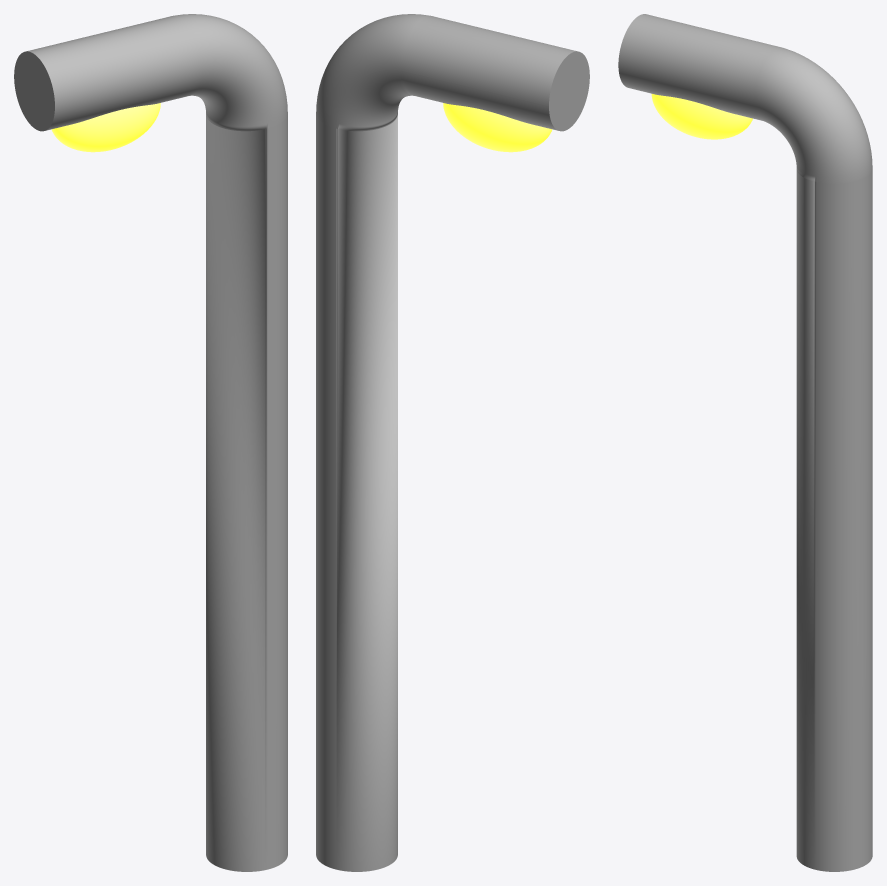
The model's file is lamp-light2.glb.
3 renders of one model, left to right at view 1: azimuth 30°, elevation 25°; view 2: azimuth 150°, elevation 25°; view 3: azimuth 330°, elevation 25°, orthographic. The views are drawn at different scales.
Visible parts, largest first — view 1: lamp, bulb; view 2: lamp, bulb; view 3: lamp, bulb.
Part boxes in pixels (x1,y1,x2,y2): lamp: [14, 14, 287, 871]; bulb: [51, 103, 160, 152]; lamp: [316, 14, 589, 871]; bulb: [443, 103, 552, 152]; lamp: [618, 14, 872, 871]; bulb: [651, 94, 752, 139].
Size of the model in its own units: 3.5 by 11.5 by 1.
